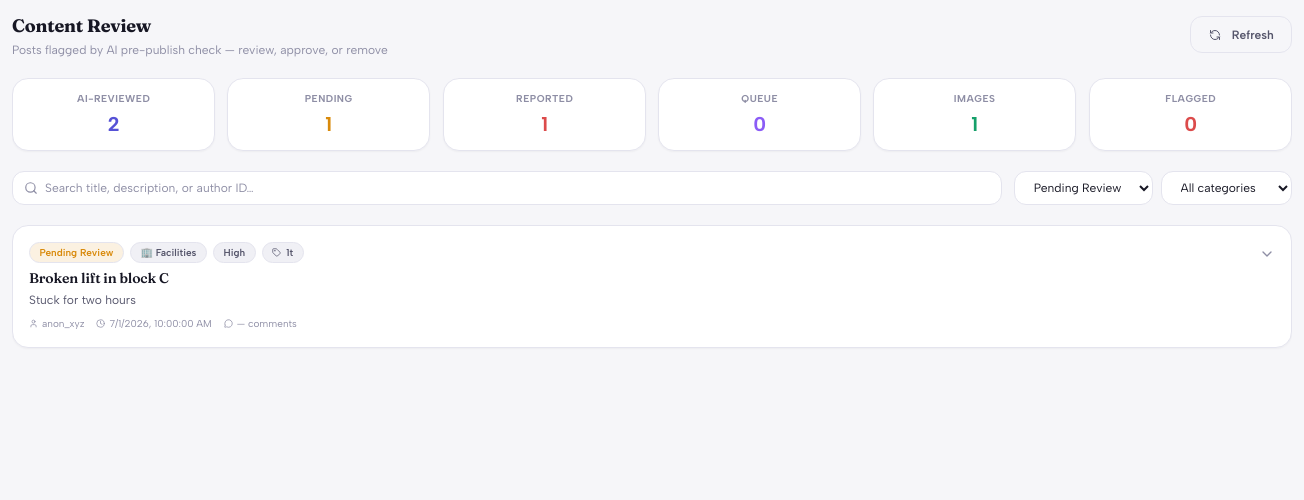
Test: ContentReview — filters › filters by search across title, description and author
Expected: the heading "Broken lift in block C" is shown, [29,269,169,287]
Note: Widen status filter — the target post has status 'reported'
Select "All statuses" in the 1st dropdown at (1084, 188), box [1014,171,1153,205]
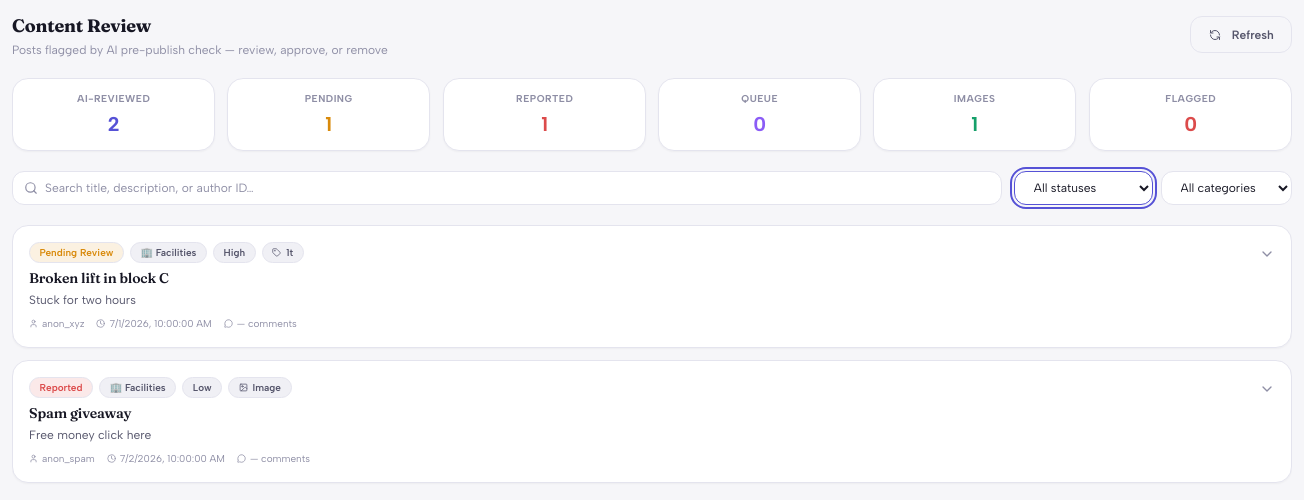
Type "anon_spam" into the field with placeholder "Search title, description, or author ID…" at (507, 188), box [12,171,1002,205]
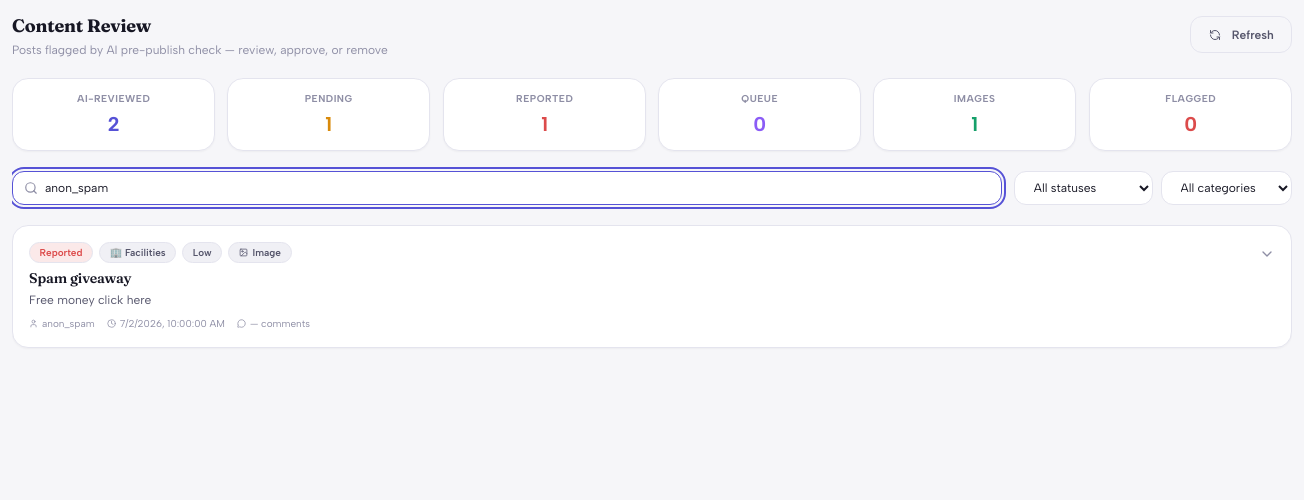
Now the heading "Spam giveaway" is shown, box [29,269,132,287]
Now the heading "Broken lift in block C" is gone
